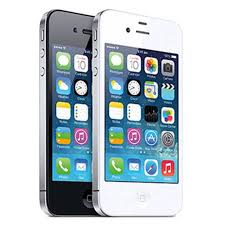iphone: (39, 3, 100, 218)
iphone4: (91, 6, 186, 216)
